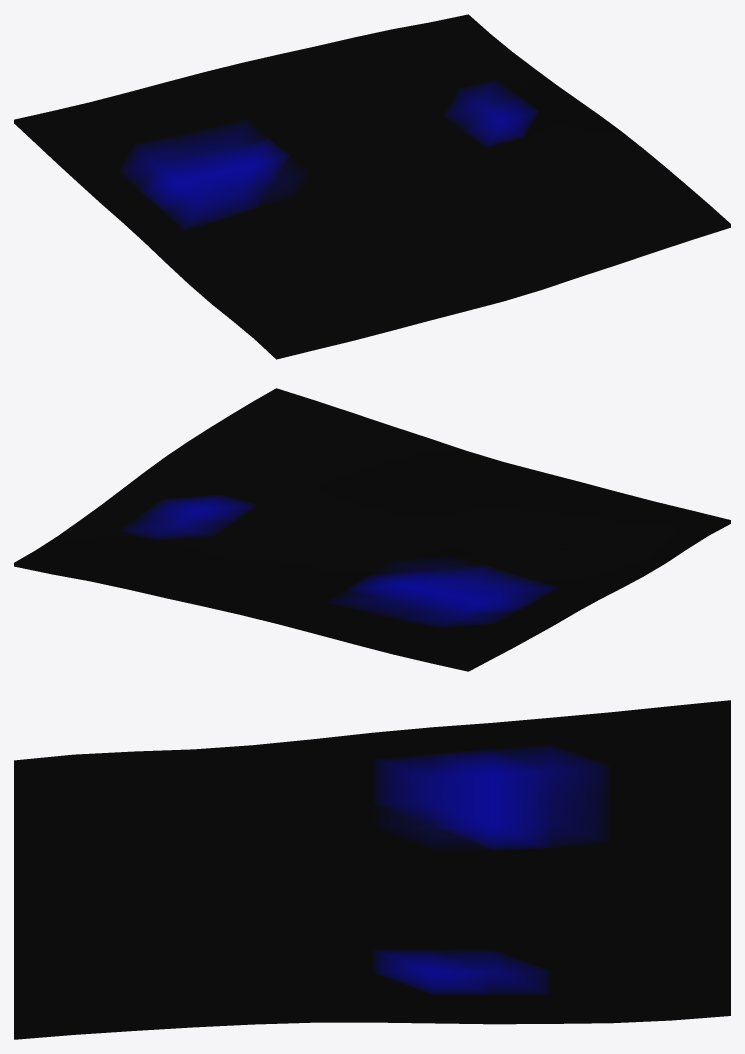
Rendered from coast_1_1.glb.
3 renders of one model, top to bottom at view 1: azimuth 30°, elevation 25°; view 2: azimuth 150°, elevation 25°; view 3: azimuth 270°, elevation 25°, orthographic. The views are drawn at different scales.
Parts seen in each view (by area): view 1: terrain; view 2: terrain; view 3: terrain.
Part boxes in pixels (x1=…): terrain: x1=14, y1=14, x2=730, y2=359; terrain: x1=14, y1=388, x2=730, y2=671; terrain: x1=14, y1=700, x2=730, y2=1039.
Bounding box in the file's own units: 192 × 19.8 × 192.
